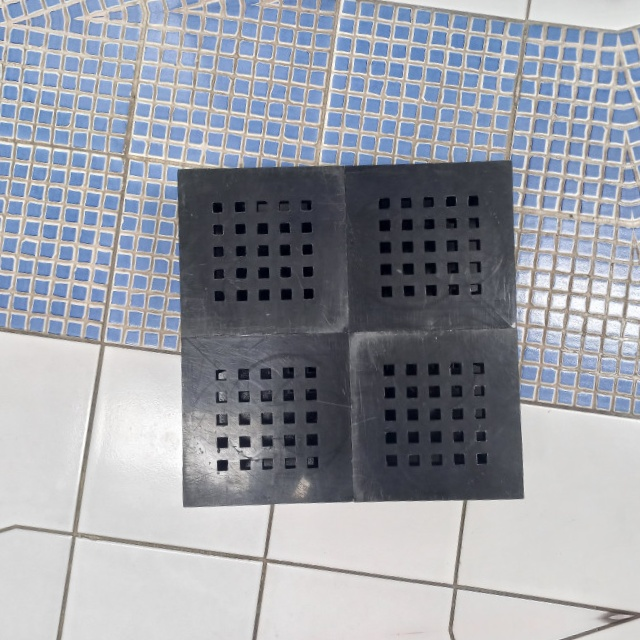pallet: (176, 161, 530, 520)
